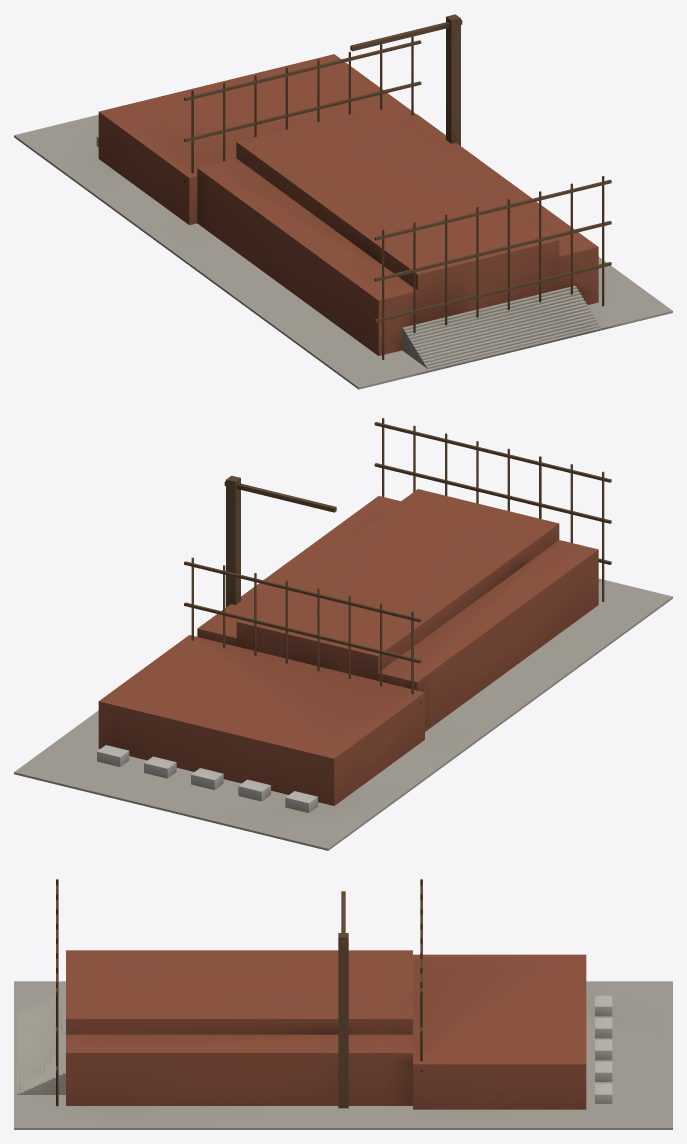
File: redentore-1580.glb
The picture shows the model from 3 angles, top to bottom: view 1: azimuth 30°, elevation 25°; view 2: azimuth 150°, elevation 25°; view 3: azimuth 270°, elevation 25°; orthographic projection. The views are drawn at different scales.
Parts seen in each view (by area): view 1: p0_walls, p1_scaffolding; view 2: p0_walls, p1_scaffolding; view 3: p0_walls, p1_scaffolding.
Part boxes in pixels (x1=…): p0_walls: x1=14, y1=54, x2=672, y2=389; p1_scaffolding: x1=96, y1=14, x2=611, y2=359; p0_walls: x1=14, y1=489, x2=672, y2=850; p1_scaffolding: x1=97, y1=418, x2=611, y2=812; p0_walls: x1=14, y1=950, x2=672, y2=1129; p1_scaffolding: x1=56, y1=879, x2=612, y2=1108.
Bounding box in the file's own units: 40 × 22 × 76.
